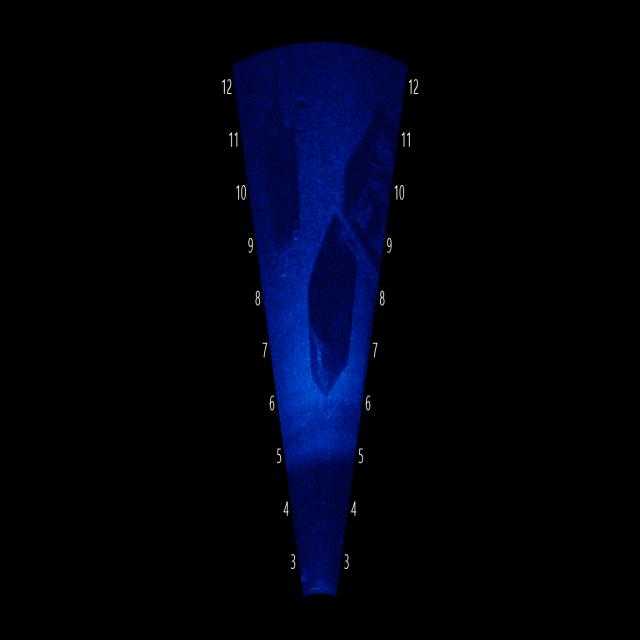square: (300, 198, 363, 416), (268, 94, 309, 260)
